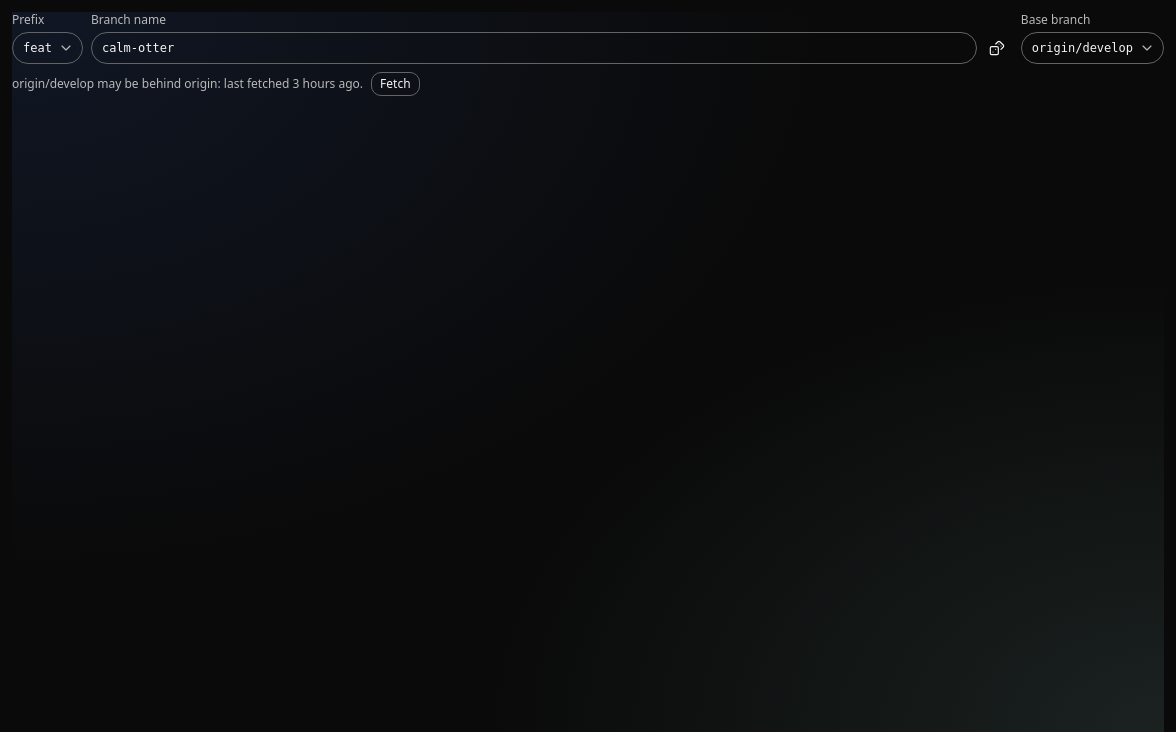
Test case: WorktreeFields base freshness › offers a one-click fetch when the picked base was last fetched hours ago
This screenshot has width=1176, height=732.
Check: the element with test id "base-freshness" shows "origin/develop may be behind origin: last fetched 3 hours ago.", box [12,75,363,92]
Click the button "Fetch".
click(395, 84)  # box [371,72,420,96]
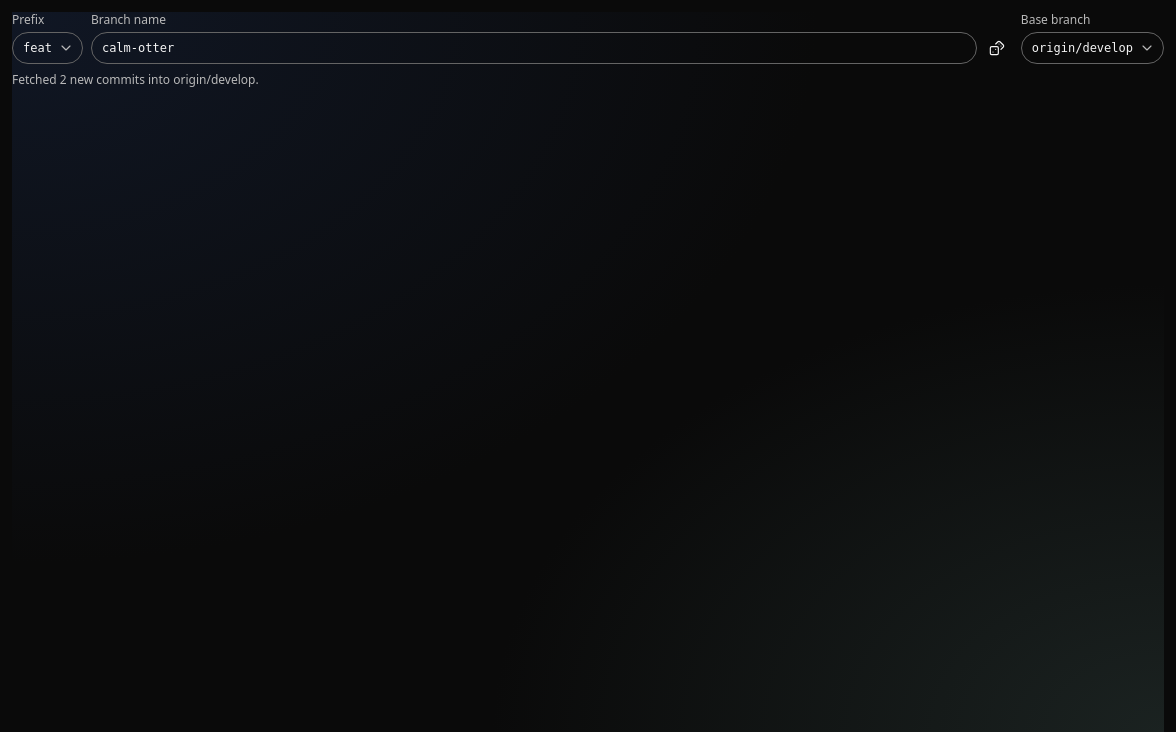
Check: the message reads "Fetched 2 new commits into origin/develop.", box [12,71,259,88]
